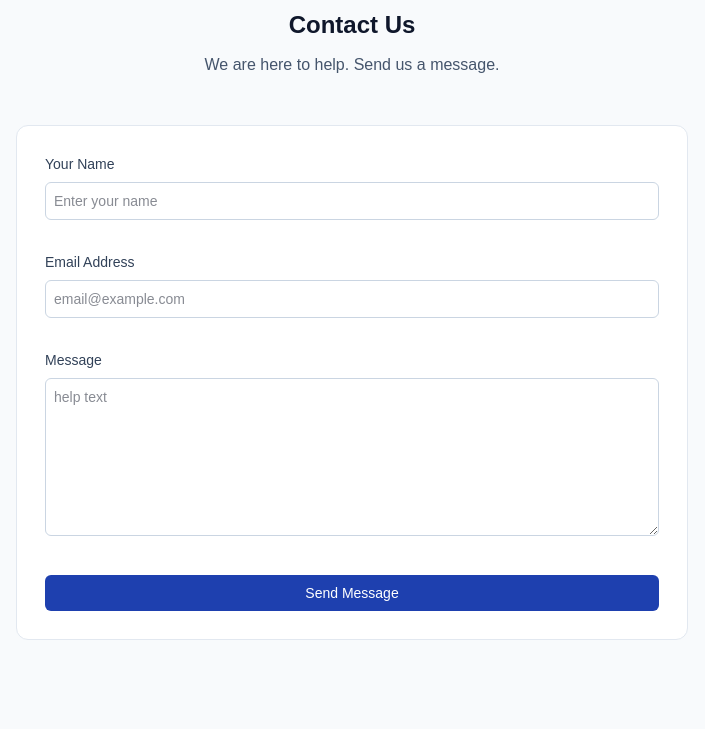
contact page- tests › empty form errors- tests
What coordinates should you click on to do the following:
click the button "Send Message"
I would click on:
 (352, 593)
Its box is top-left (45, 575), bottom-right (659, 611).
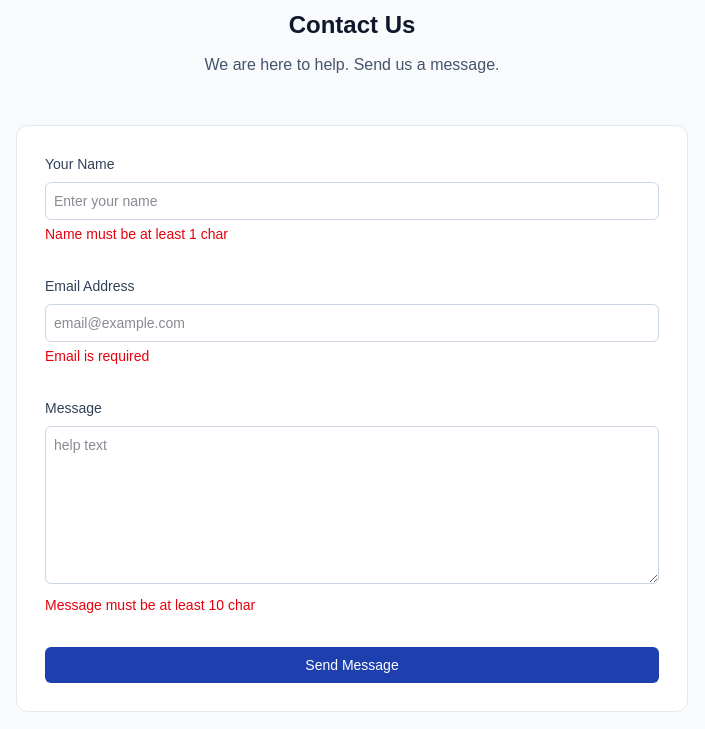
Expected: the text "Name must be at least 1 char" is shown, top-left (45, 226), bottom-right (228, 242)
Expected: the text "Email is required" is shown, top-left (45, 348), bottom-right (149, 364)
Expected: the text "Message must be at least 10 char" is shown, top-left (45, 597), bottom-right (255, 613)
